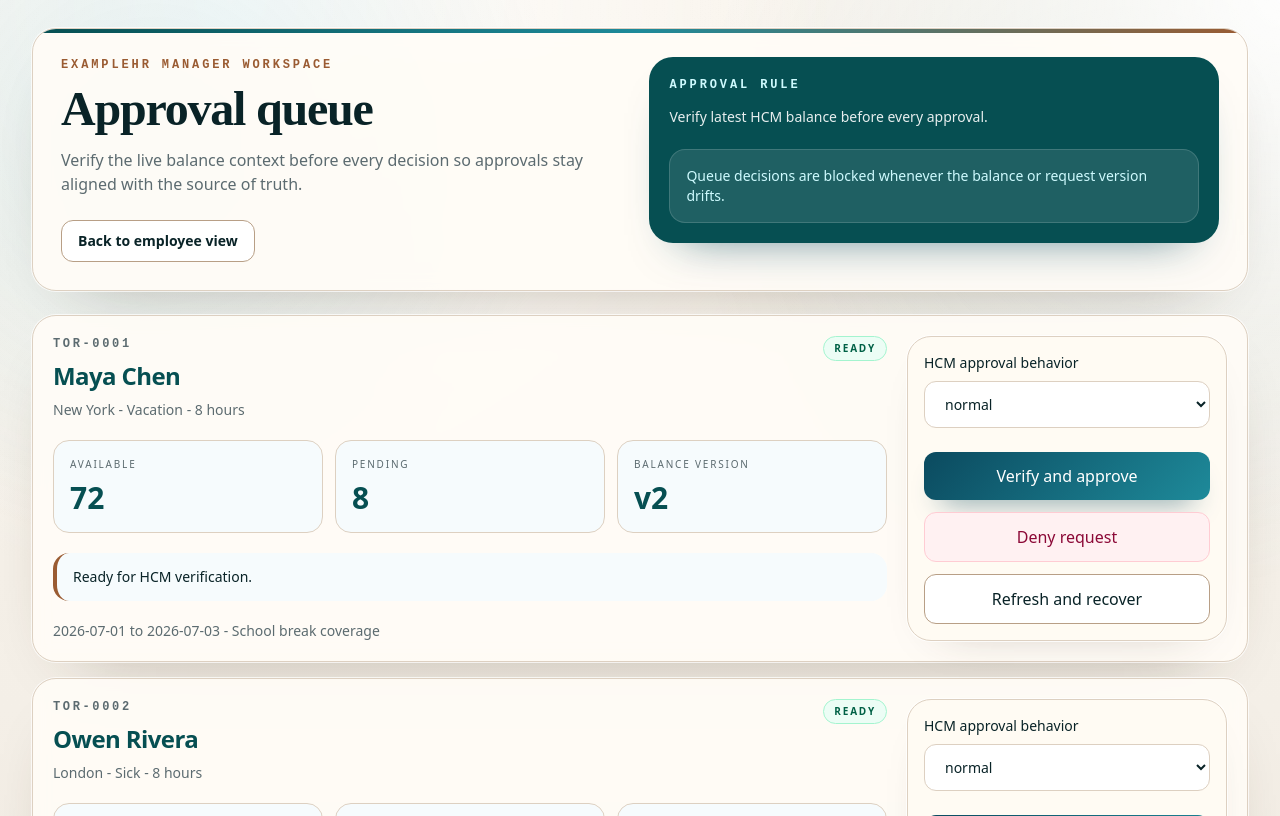
it: ManagerView HCM interactions › blocks approval and shows a stale-balance warning when HCM changes the visible balance
Select "balance-changed" in the dropdown labelled "HCM approval behavior" in the row of "Vacation". click: point(1067, 404)
box: [924, 381, 1210, 428]
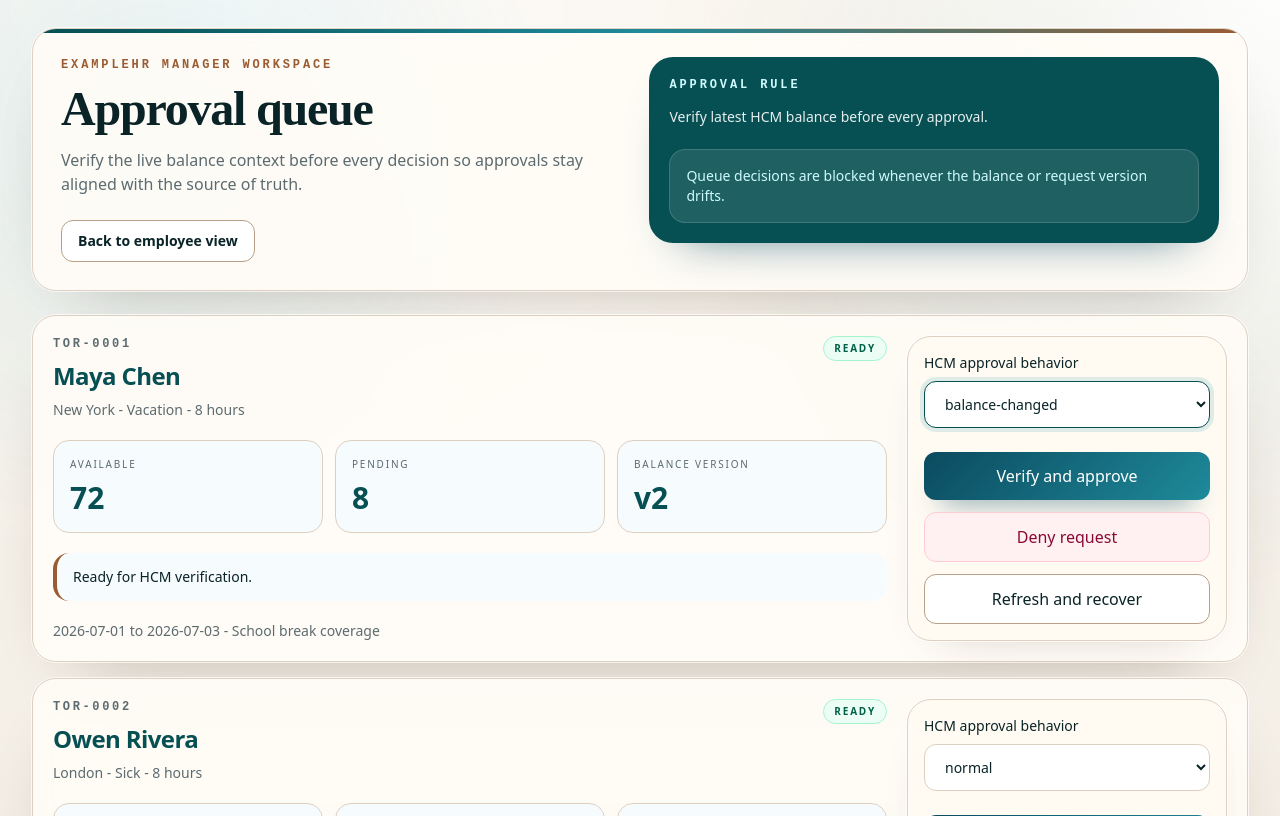
Click the button "Verify and approve" in the row of "72". click: point(1067, 476)
box: [924, 452, 1210, 500]
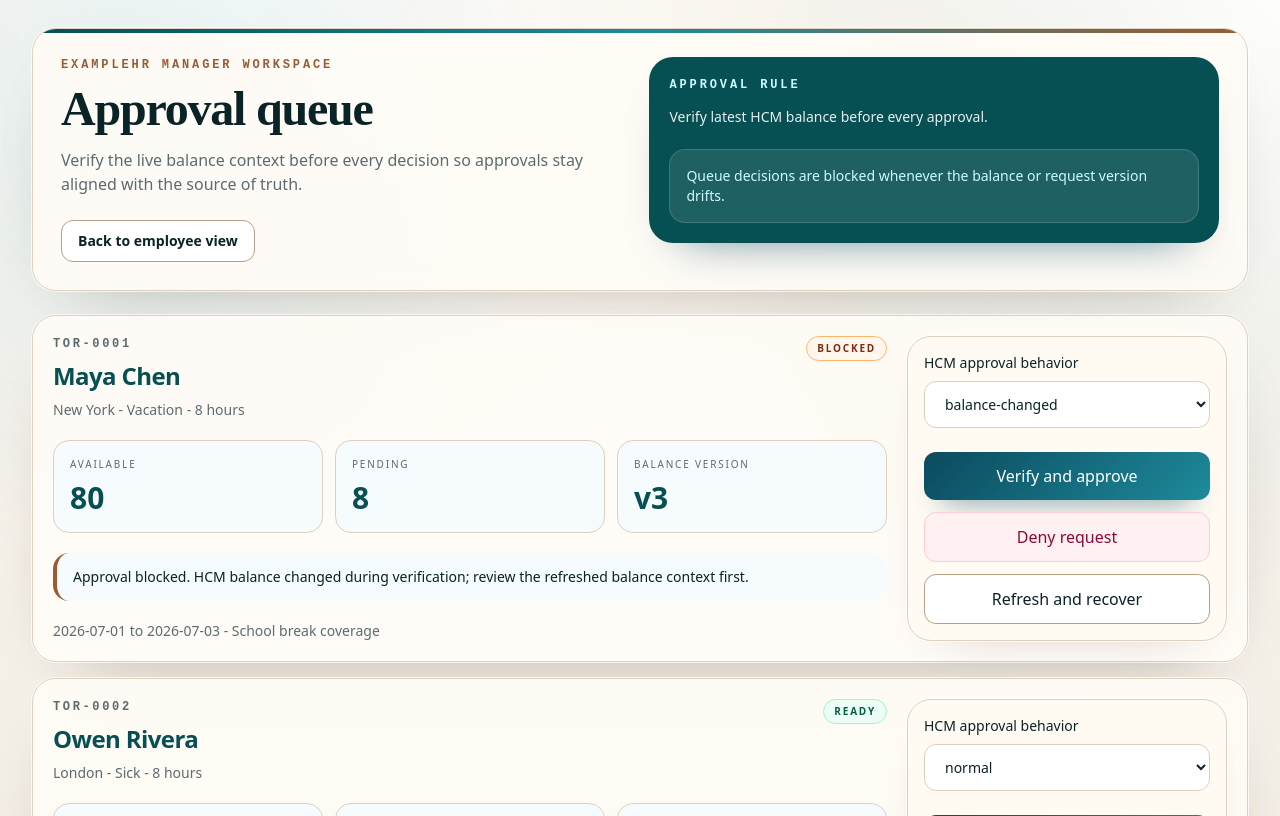
expect the text "Approval blocked. HCM balance changed during verification; review the refreshed balance context first." is shown: met, box [73, 567, 749, 586]
expect the text "80" is shown: met, box [70, 477, 104, 518]
expect the text "v3" is shown: met, box [634, 477, 668, 518]
